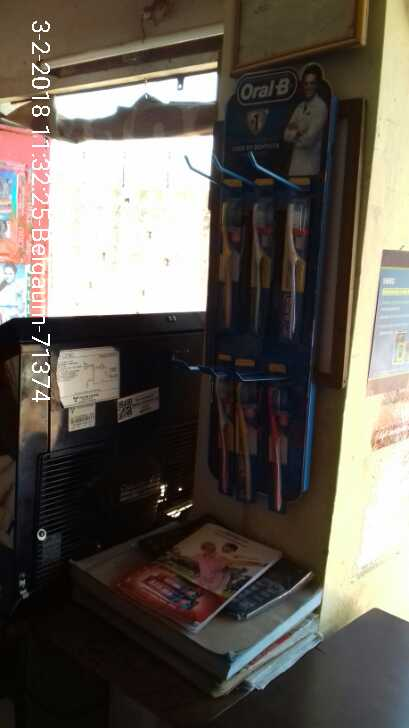oralb: (213, 188, 317, 329), (206, 367, 291, 510)
